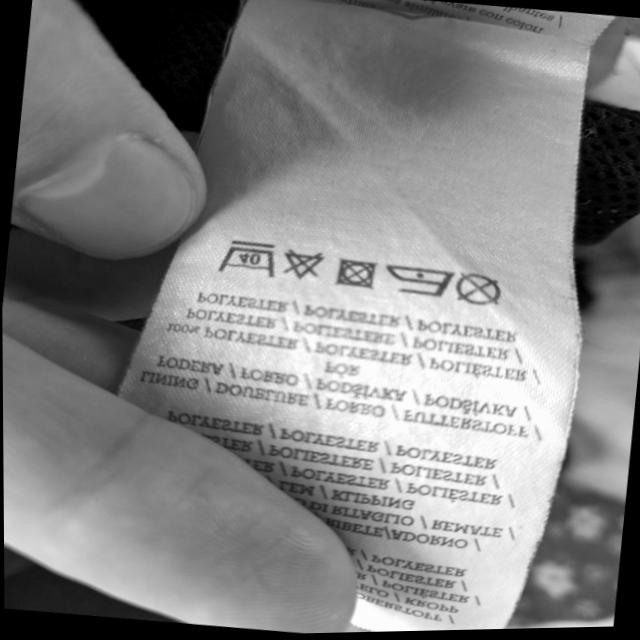40C: (221, 238, 277, 279)
DN_bleach: (283, 248, 326, 283)
DN_dry_clean: (459, 267, 502, 306)
DN_tumble_dry: (333, 257, 380, 290)
iron_low: (386, 263, 456, 299)
